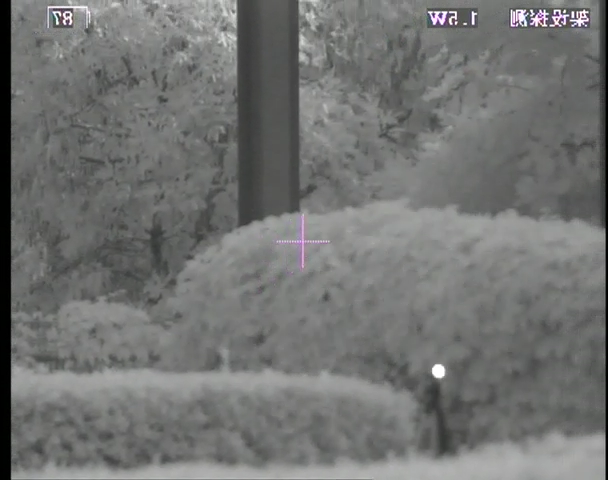my: (431, 362, 447, 379)
